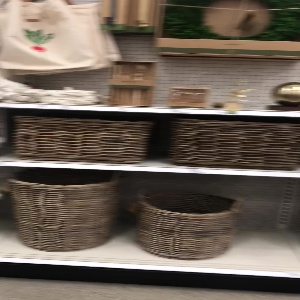void: (233, 182, 300, 268)
